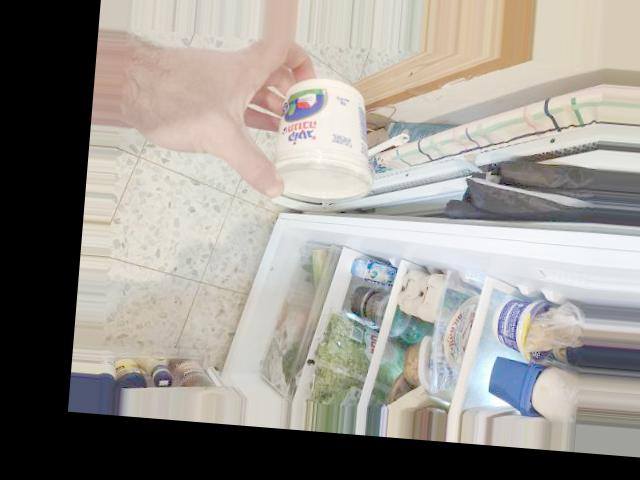cotage: (264, 70, 380, 203)
